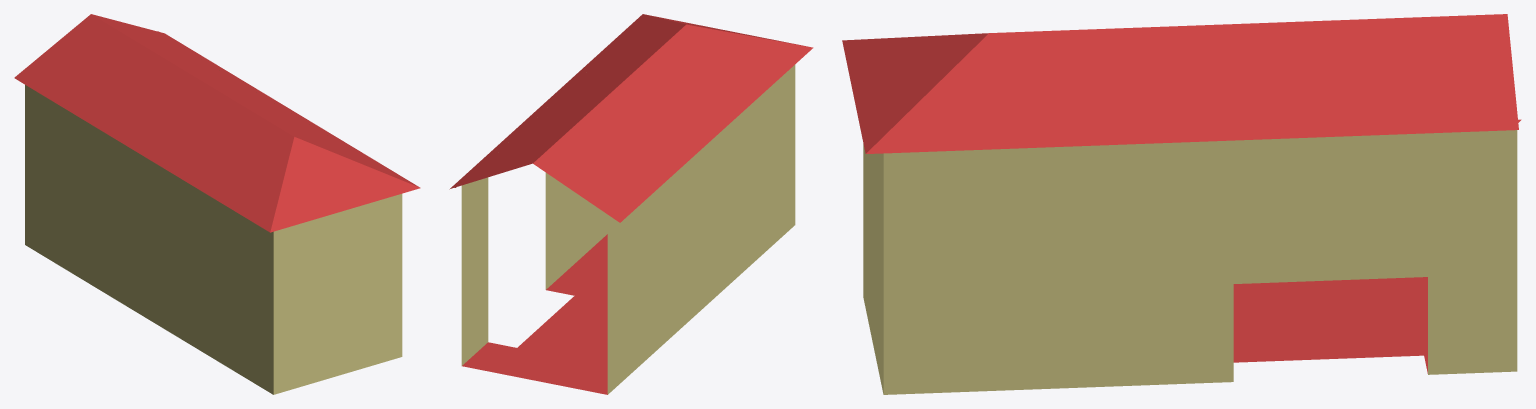
The picture shows the model from 3 angles, left to right: view 1: azimuth 30°, elevation 25°; view 2: azimuth 150°, elevation 25°; view 3: azimuth 270°, elevation 25°; orthographic projection. The views are drawn at different scales.
Bounding box in the file's own units: 12.44 × 25.93 × 13.06.
